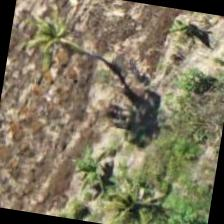Kelapa_Sawit: (7, 0, 111, 92)
